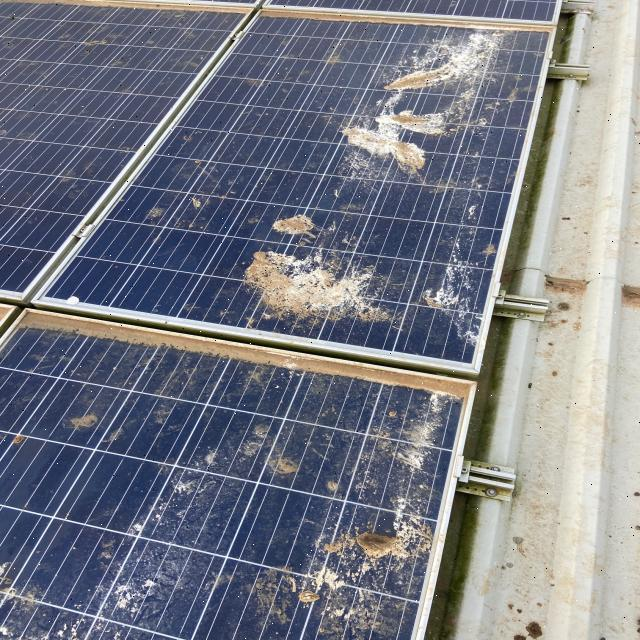Anomaly Solar Panel: (31, 8, 557, 372), (1, 309, 476, 640), (0, 0, 254, 300)
Surface Contaminant: (0, 0, 248, 229), (306, 0, 542, 211), (61, 440, 278, 639), (18, 311, 468, 401), (69, 335, 274, 449), (406, 140, 502, 345), (325, 386, 470, 512), (133, 124, 263, 261), (300, 512, 422, 640), (231, 228, 388, 325), (278, 373, 373, 461), (231, 416, 314, 483), (237, 558, 296, 624), (315, 20, 363, 69), (0, 616, 90, 640), (0, 562, 43, 611), (270, 211, 316, 239), (59, 406, 98, 435), (8, 428, 26, 449)
